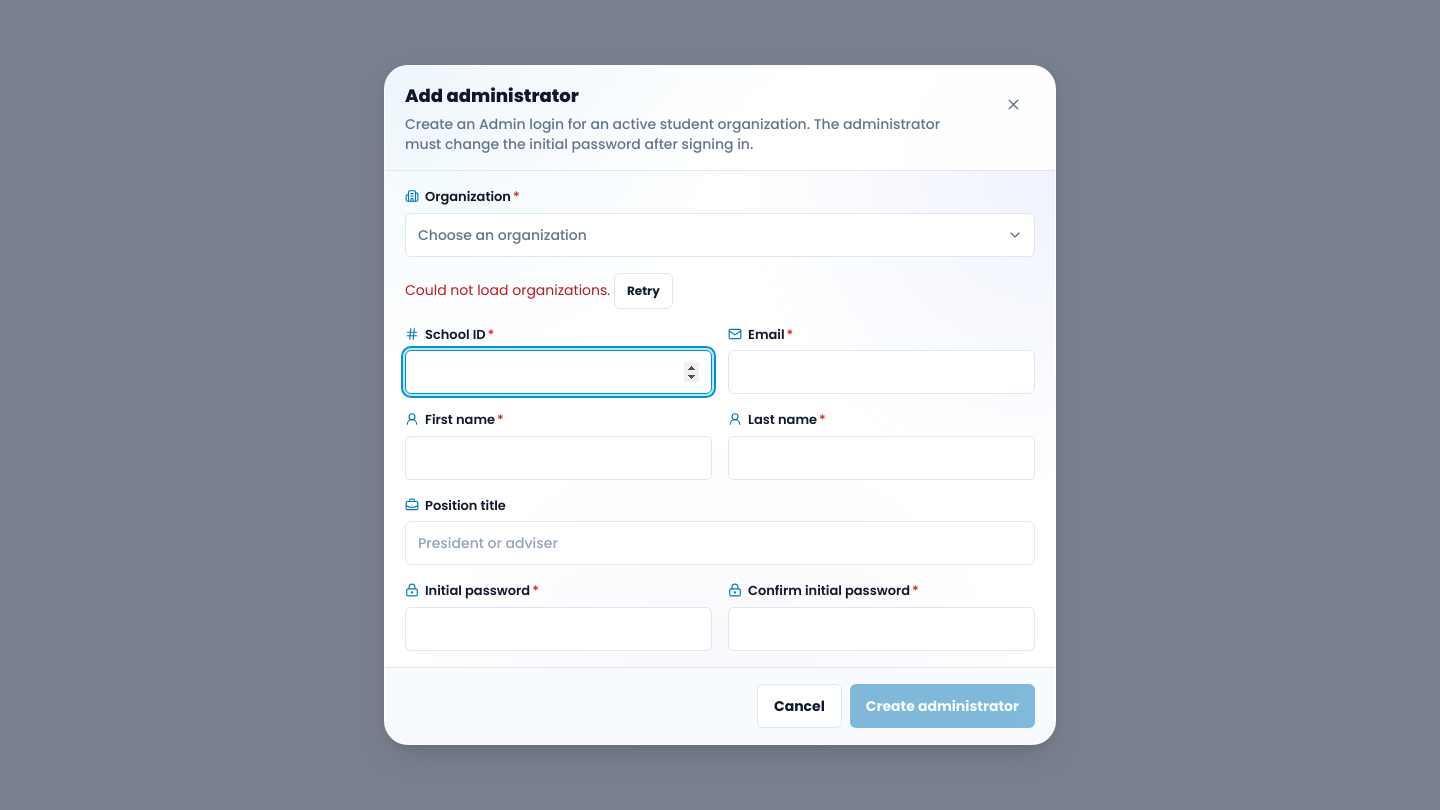
Test: SAO administrator creation › retries a failed organization lookup without enabling a save against an unavailable destination
Expected: the message shows "Could not load organizations.", [405,280,610,300]
Expected: the button "Create administrator" is disabled, [850,684,1035,728]
Click the button "Retry" at (643, 291), box [614,273,673,309]
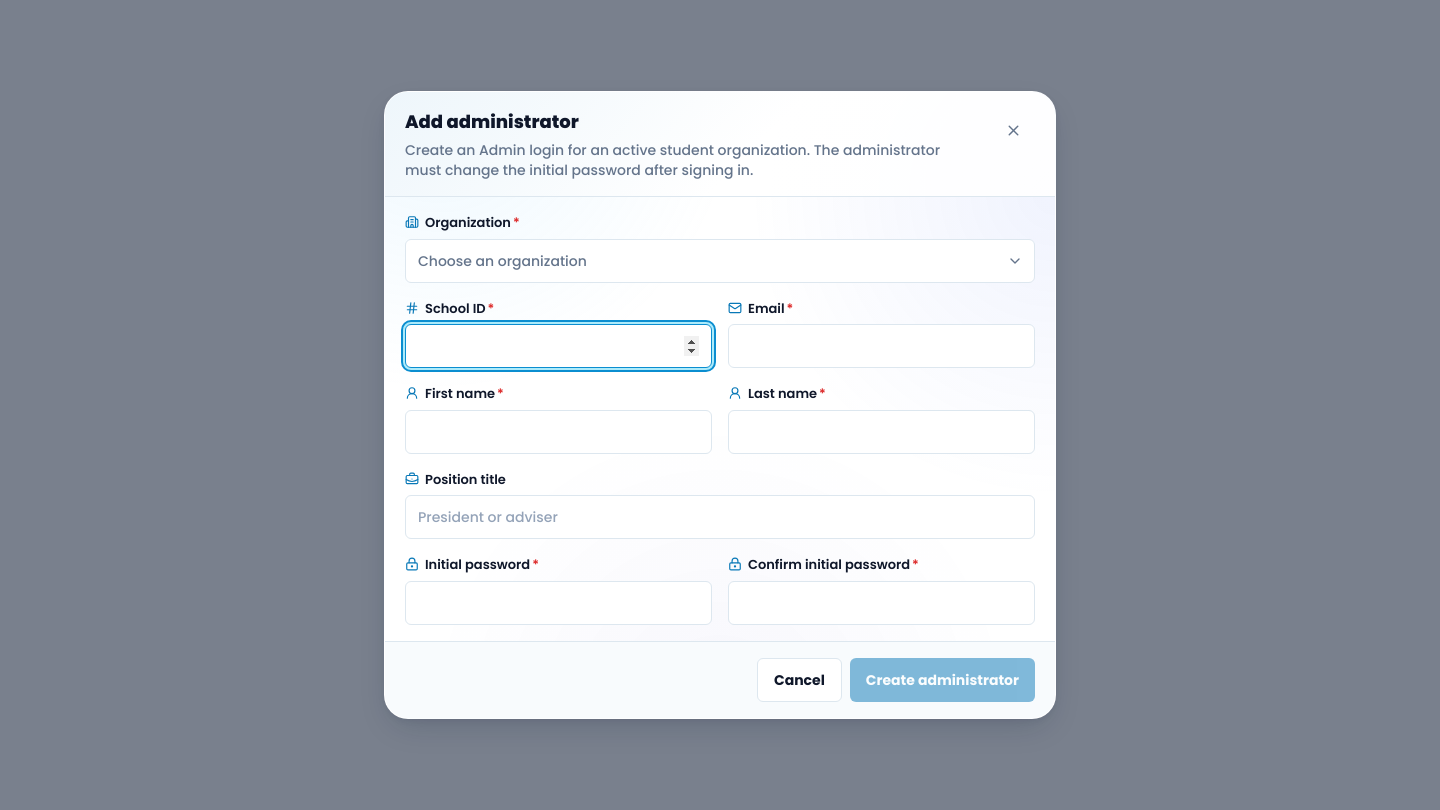
Select "Computing Council" in the dropdown labelled "Organization*" at (462, 223), box [405,213,520,232]
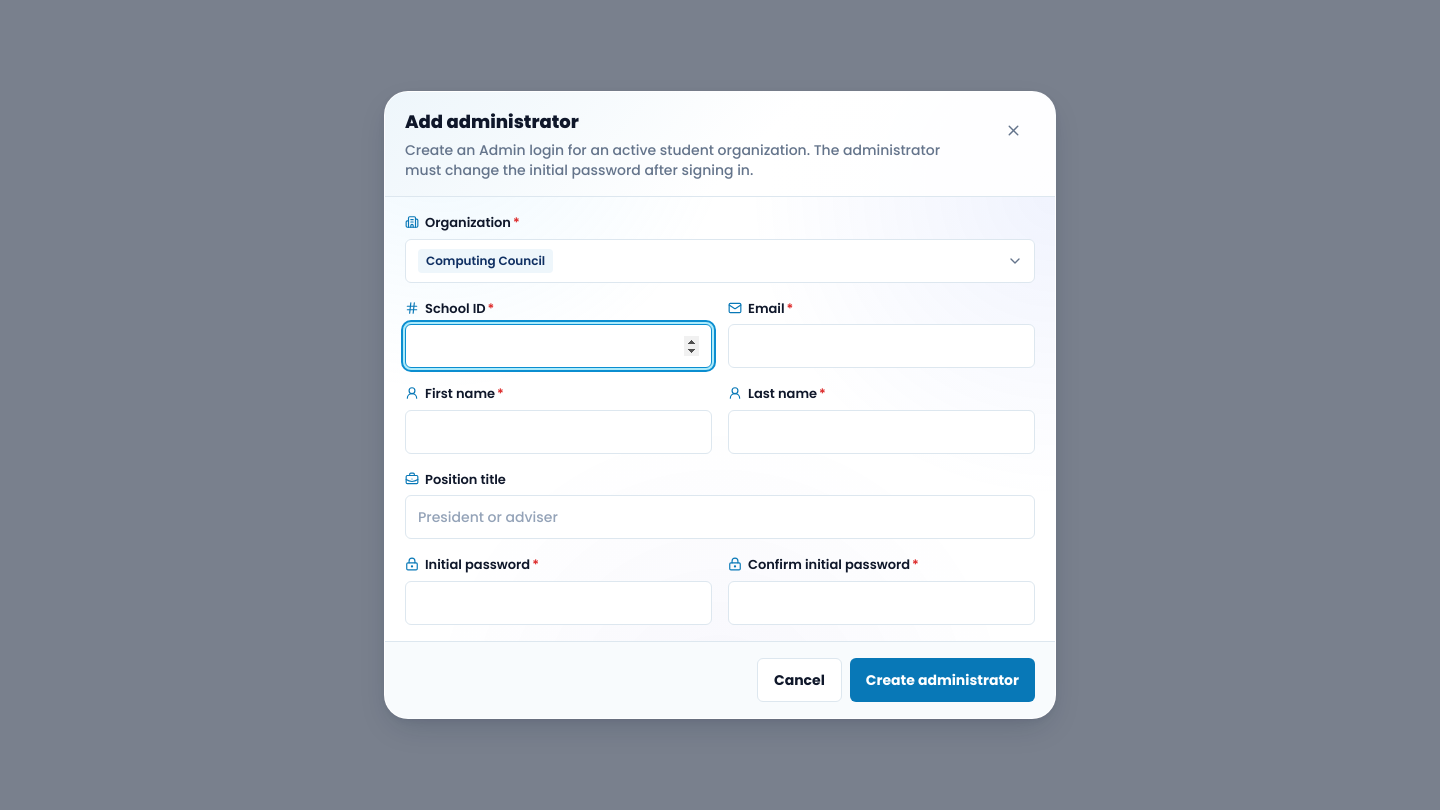
Result: the button "Create administrator" is enabled at [850,658,1035,702]
